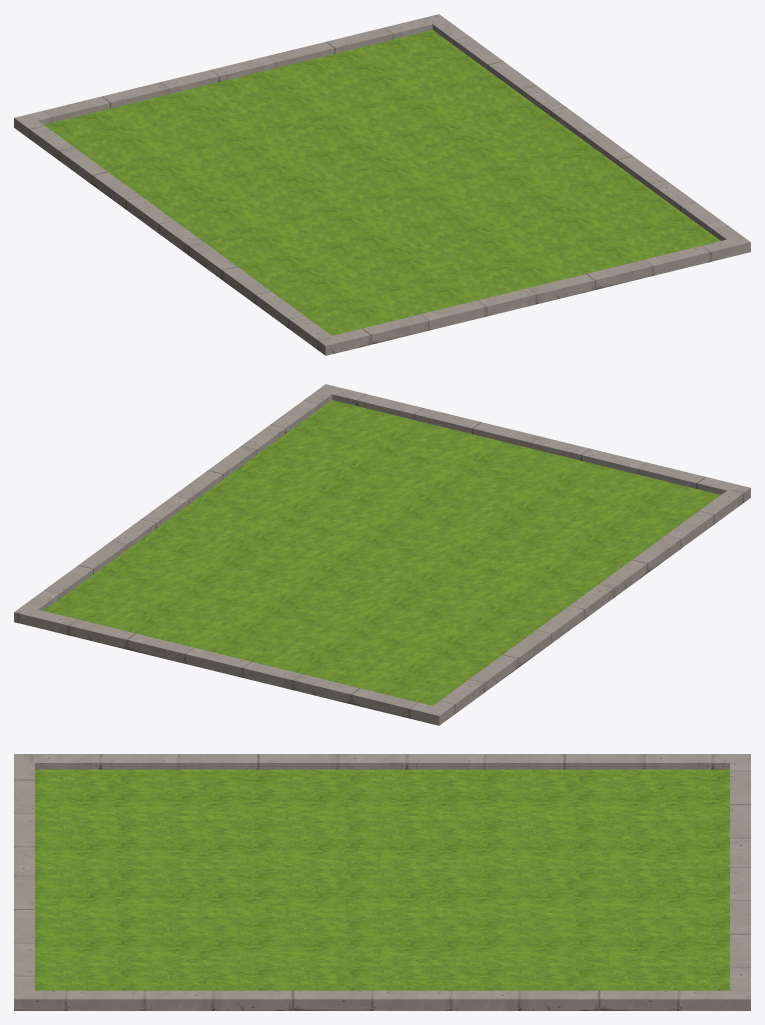
File: GrassTile_I.fbx
3 renders of one model, top to bottom at view 1: azimuth 30°, elevation 25°; view 2: azimuth 150°, elevation 25°; view 3: azimuth 270°, elevation 25°, orthographic. The views are drawn at different scales.
Visible parts, largest first — view 1: GrassTile_I; view 2: GrassTile_I; view 3: GrassTile_I.
Part boxes in pixels (x1,y1,x2,y2): GrassTile_I: (14, 14, 750, 355); GrassTile_I: (14, 384, 750, 725); GrassTile_I: (14, 754, 750, 1010).
Size of the model in its own units: 1372 by 30.34 by 1742.
Materials: 2 (2 with a texture image).
